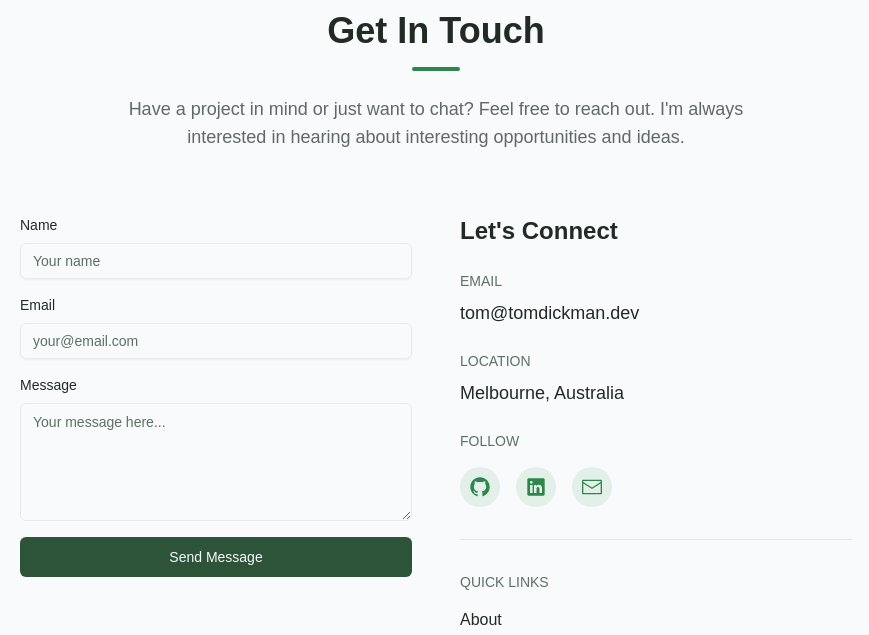
it: Contact › shows a targeted message when the API rate-limits submission
Type "Alice" into the field labelled "Name" at (216, 261), box [20, 243, 412, 279]
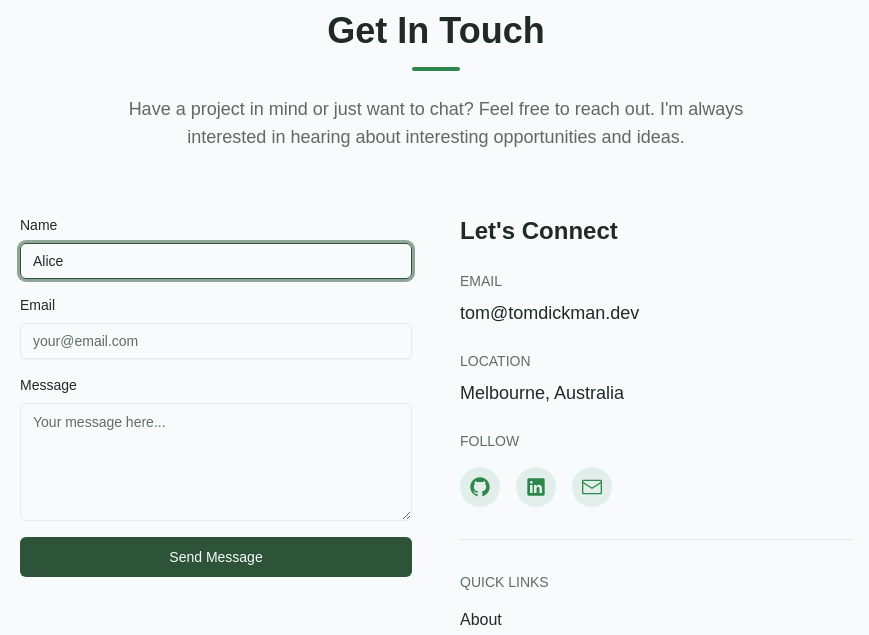
Type "alice@example.com" into the field labelled "Email" at (216, 341), box [20, 323, 412, 359]
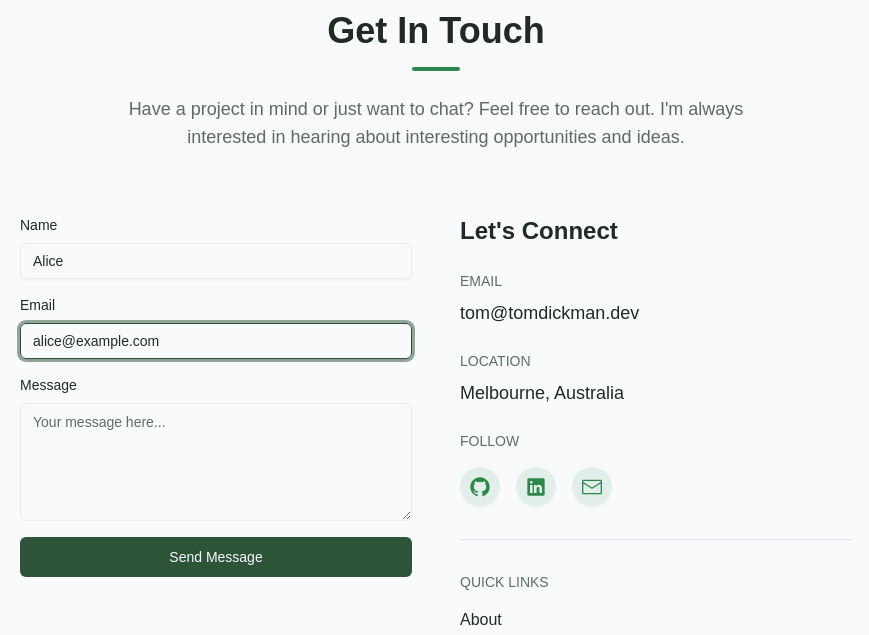
Type "Hello there" into the text box labelled "Message" at (216, 462), box [20, 403, 412, 521]
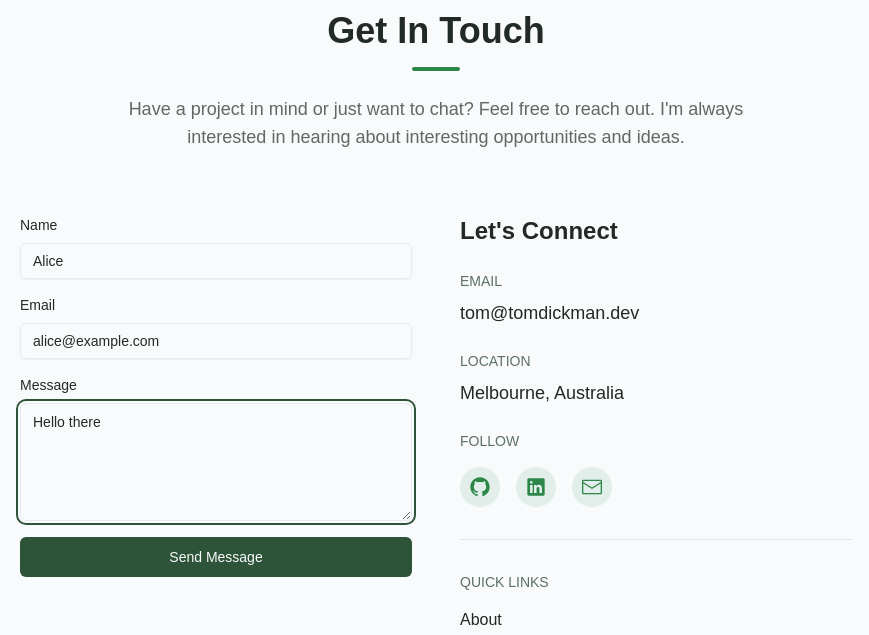
Click the button "Send Message" at (216, 557), box [20, 537, 412, 577]
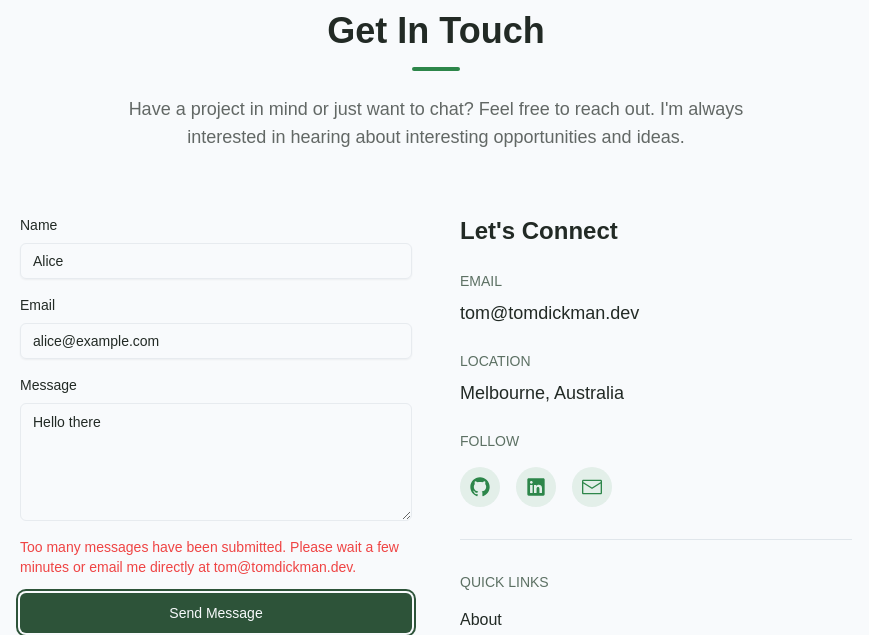
Check: the message shows "Too many messages have been submitted", box [20, 539, 399, 575]
